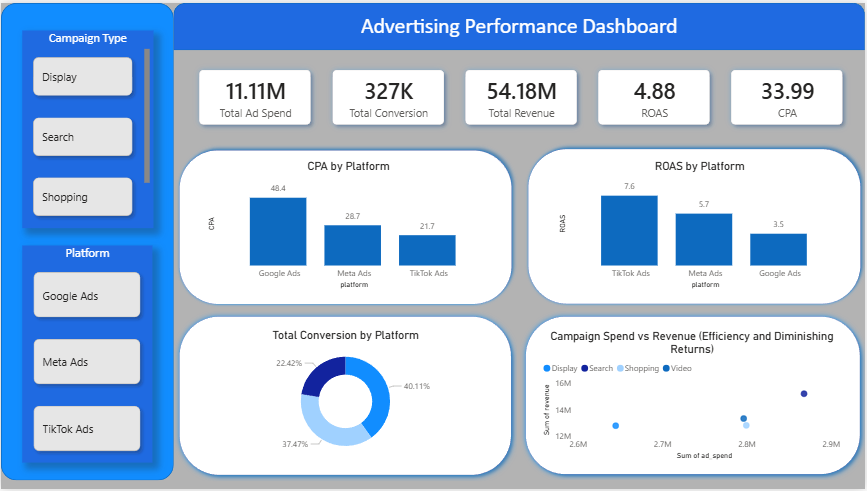

What the dashboard file says about the page in this screenshot:
{"tool":"powerbi","page":{"name":"Page 1","canvas":[1280,720],"ordinal":0},"visuals":[{"type":"cardVisual","fields":{"Data":["ad+campaign_raw.Total_ad_spend","ad+campaign_raw.Total_conversion","ad+campaign_raw.Total_revenue","ad+campaign_raw.ROAS","ad+campaign_raw.CPA"]},"box":[265.4,70.5,1011.5,139.7],"z":0},{"type":"shape","box":[255.7,0,1024.3,70],"z":1000},{"type":"shape","box":[255.7,210,510,245.7],"z":5000},{"type":"shape","box":[771.4,207.1,510,247.1],"z":6000},{"type":"clusteredColumnChart","title":"ROAS by Platform","fields":{"Category":["ad+campaign_raw.platform"],"Y":["ad+campaign_raw.ROAS"]},"box":[823.1,232.1,425.6,197.4],"z":7000},{"type":"shape","box":[768.6,455.7,512.9,251.4],"z":8000},{"type":"shape","box":[256.4,455.1,509,252.6],"z":9000},{"type":"donutChart","title":"Total Conversion by Platform","fields":{"Category":["ad+campaign_raw.platform"],"Y":["ad+campaign_raw.Total_conversion"]},"box":[298.6,481.2,424.6,198.6],"z":10000},{"type":"scatterChart","title":"Campaign Spend vs Revenue (Efficiency and Diminishing Returns)","fields":{"X":["Sum(ad+campaign_raw.ad_spend)"],"Y":["Sum(ad+campaign_raw.revenue)"],"Series":["ad+campaign_raw.campaign_type"]},"box":[798.6,482.6,450.7,198.6],"z":11000},{"type":"clusteredColumnChart","title":"CPA by Platform","fields":{"Category":["ad+campaign_raw.platform"],"Y":["ad+campaign_raw.CPA"]},"box":[302.6,232.1,425.6,197.4],"z":13000},{"type":"shape","box":[0,0,255.7,707.1],"z":13250},{"type":"advancedSlicerVisual","title":"Platform","fields":{"Values":["ad+campaign_raw.platform"]},"box":[31.4,360,192.9,321.4],"z":13500},{"type":"advancedSlicerVisual","title":"Campaign Type ","fields":{"Values":["ad+campaign_raw.campaign_type"]},"box":[31.4,40,194.3,292.9],"z":14000},{"type":"textbox","box":[255.7,10,1024.3,71.4],"z":14500}]}

Visuals, with their boxes in screenshot pixels (x1, y1, x2, y2), scaled from the page's 1280x720 canvas onto the 867x491 screenshot:
cardVisual - ad+campaign_raw.Total_ad_spend x ad+campaign_raw.Total_conversion: pyautogui.locateOnScreen(180, 48, 865, 143)
shape: pyautogui.locateOnScreen(173, 0, 866, 48)
shape: pyautogui.locateOnScreen(173, 143, 519, 311)
shape: pyautogui.locateOnScreen(523, 141, 866, 310)
"ROAS by Platform" clusteredColumnChart: pyautogui.locateOnScreen(558, 158, 846, 293)
shape: pyautogui.locateOnScreen(521, 311, 866, 482)
shape: pyautogui.locateOnScreen(174, 310, 518, 483)
"Total Conversion by Platform" donutChart: pyautogui.locateOnScreen(202, 328, 490, 464)
"Campaign Spend vs Revenue (Efficiency and Diminishing Returns)" scatterChart: pyautogui.locateOnScreen(541, 329, 846, 465)
"CPA by Platform" clusteredColumnChart: pyautogui.locateOnScreen(205, 158, 493, 293)
shape: pyautogui.locateOnScreen(0, 0, 173, 482)
"Platform" advancedSlicerVisual: pyautogui.locateOnScreen(21, 246, 152, 465)
"Campaign Type " advancedSlicerVisual: pyautogui.locateOnScreen(21, 27, 153, 227)
textbox: pyautogui.locateOnScreen(173, 7, 866, 56)
